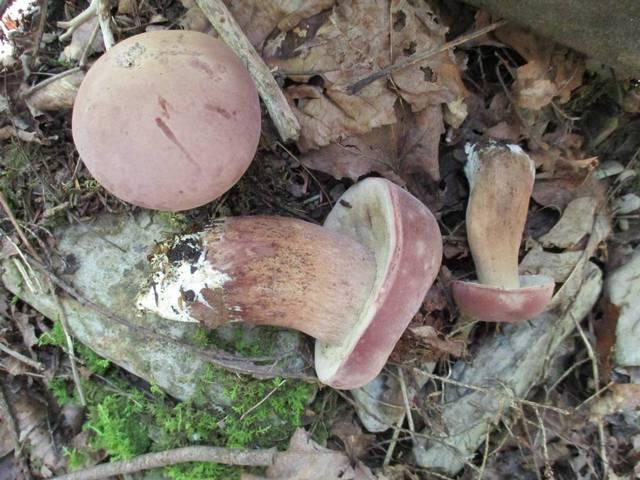Non-edible Mushroom: (189, 175, 435, 401), (69, 28, 263, 212), (449, 137, 555, 323)
